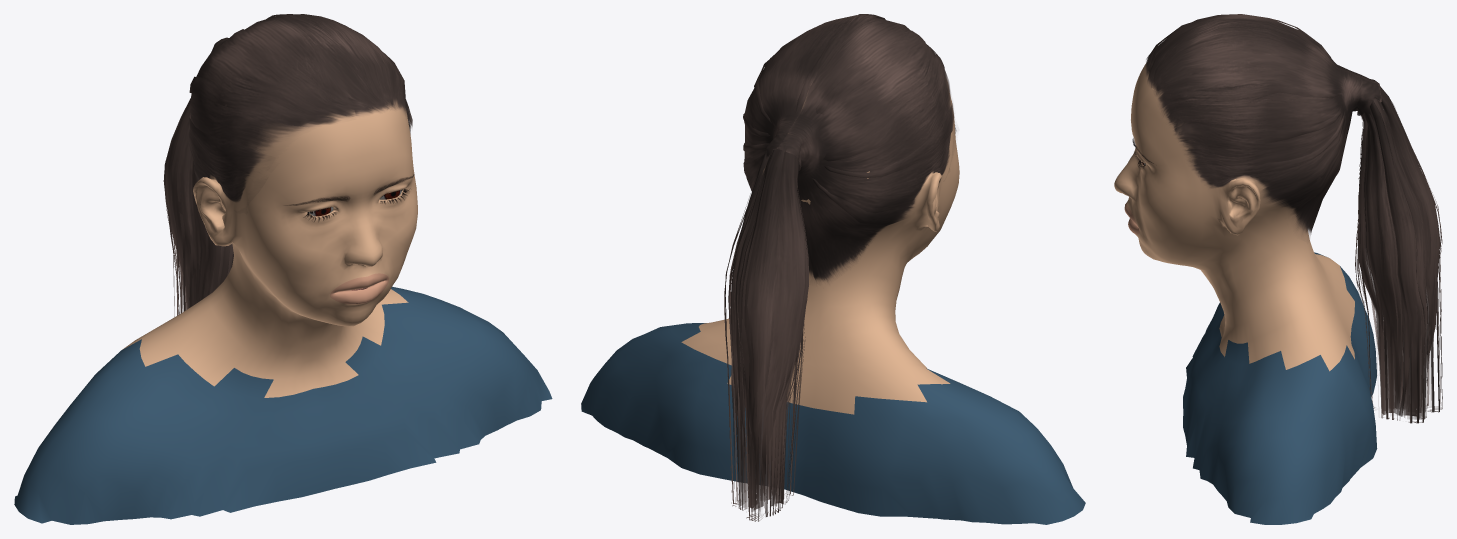
The model's file is woman-06.glb.
3 views of the same model, side by side, from view 1: azimuth 30°, elevation 25°; view 2: azimuth 150°, elevation 25°; view 3: azimuth 270°, elevation 25° (orthographic). The views are drawn at different scales.
Parts seen in each view (by area): view 1: mpfb-face, mpfb-face.ponytail01; view 2: mpfb-face, mpfb-face.ponytail01; view 3: mpfb-face, mpfb-face.ponytail01.
Part boxes in pixels (x1=…): mpfb-face: x1=14, y1=100, x2=552, y2=524; mpfb-face.ponytail01: x1=163, y1=14, x2=412, y2=316; mpfb-face: x1=581, y1=81, x2=1085, y2=524; mpfb-face.ponytail01: x1=724, y1=14, x2=954, y2=521; mpfb-face: x1=1114, y1=63, x2=1377, y2=524; mpfb-face.ponytail01: x1=1145, y1=14, x2=1442, y2=423.
Size of the model in its own units: 0.4153 by 0.3371 by 0.2557.
9 materials, 6 textured.
